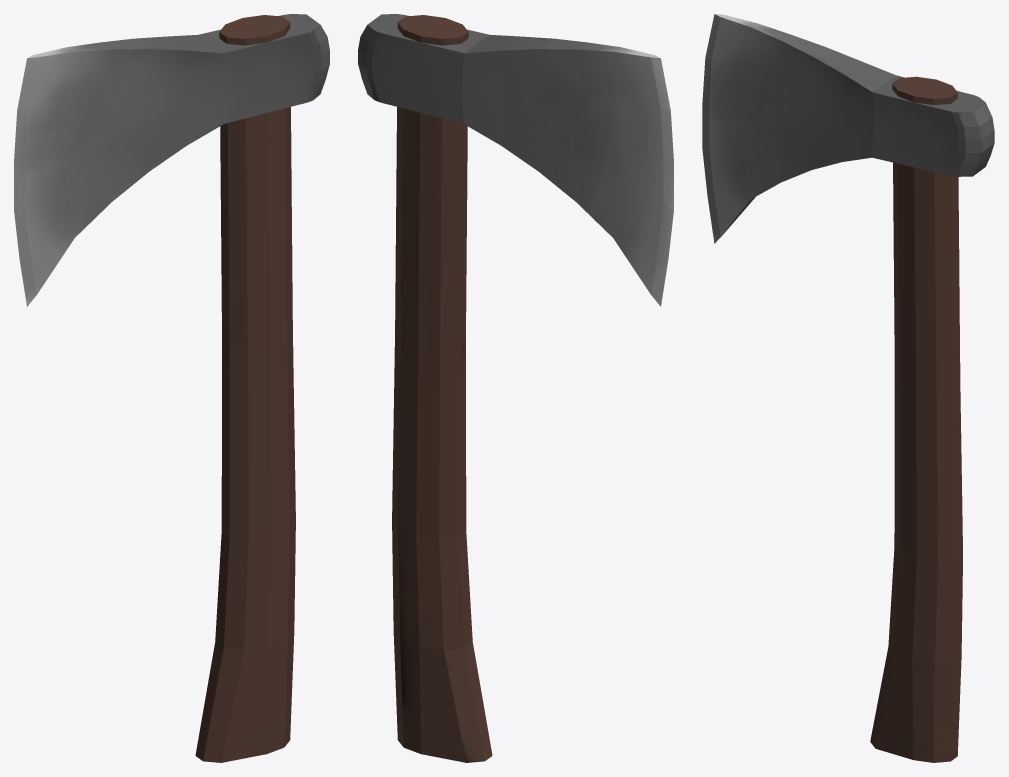
The model's file is axt.obj.
3 views of the same model, side by side, from view 1: azimuth 30°, elevation 25°; view 2: azimuth 150°, elevation 25°; view 3: azimuth 330°, elevation 25° (orthographic). The views are drawn at different scales.
Visible parts, largest first — view 1: Cube.003; view 2: Cube.003; view 3: Cube.003.
Part boxes in pixels (x1=…): Cube.003: x1=14, y1=14, x2=329, y2=762; Cube.003: x1=358, y1=14, x2=673, y2=762; Cube.003: x1=702, y1=14, x2=994, y2=762.
Bounding box in the file's own units: 9.29 × 21.34 × 1.44.
1 material, 1 textured.
